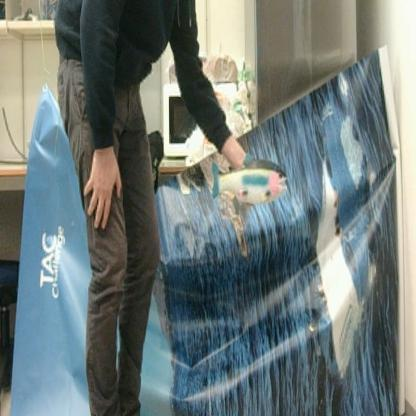rubberfish: (212, 154, 288, 206)
